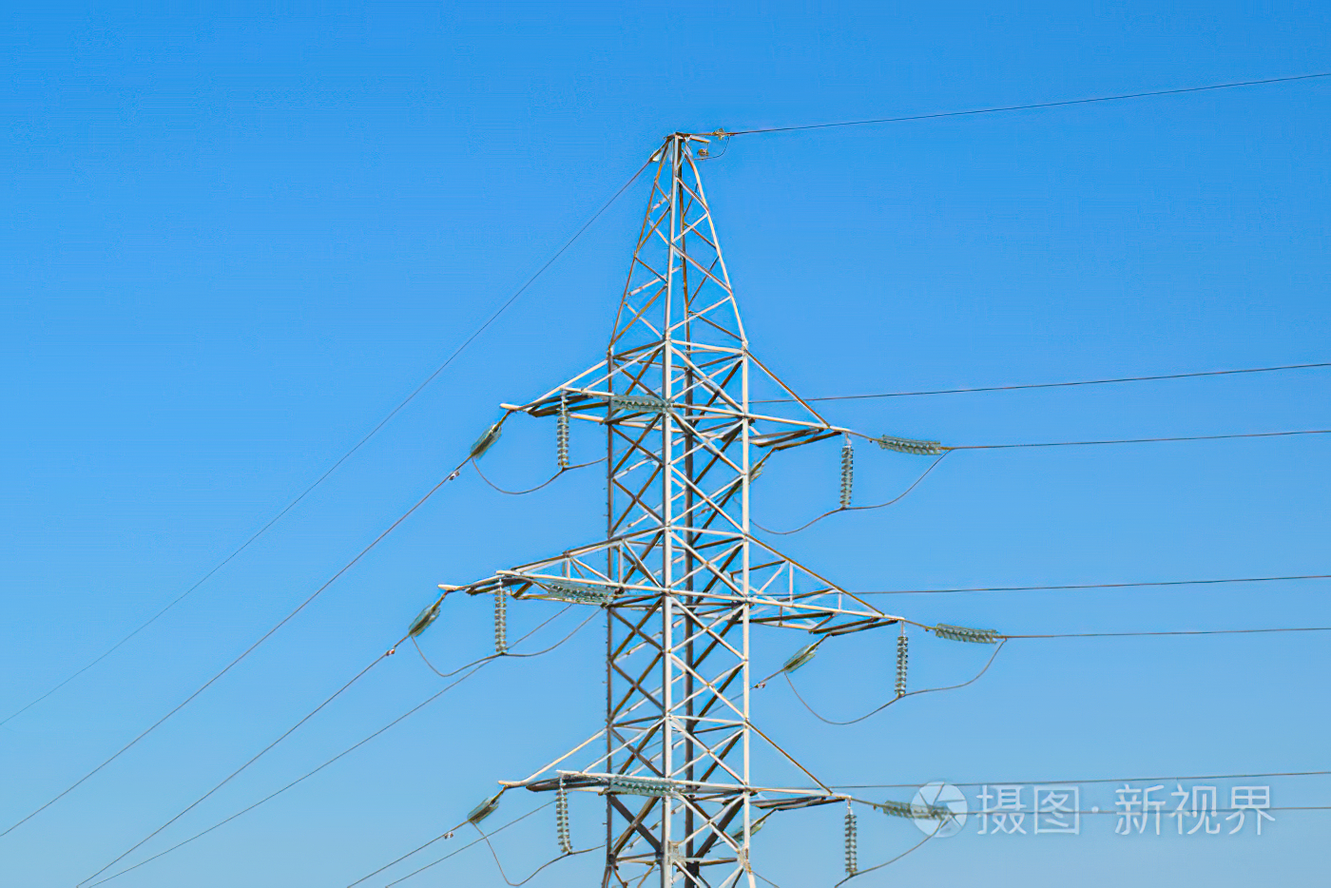insulator: (878, 797, 953, 825), (548, 575, 612, 607), (608, 773, 678, 801), (609, 389, 677, 417), (550, 789, 577, 856), (930, 618, 996, 645), (406, 598, 444, 644), (871, 433, 942, 455), (550, 406, 574, 468), (469, 422, 501, 464), (891, 634, 911, 699), (464, 793, 501, 827), (842, 813, 861, 878), (839, 442, 858, 506), (492, 575, 505, 654), (781, 647, 815, 675)
